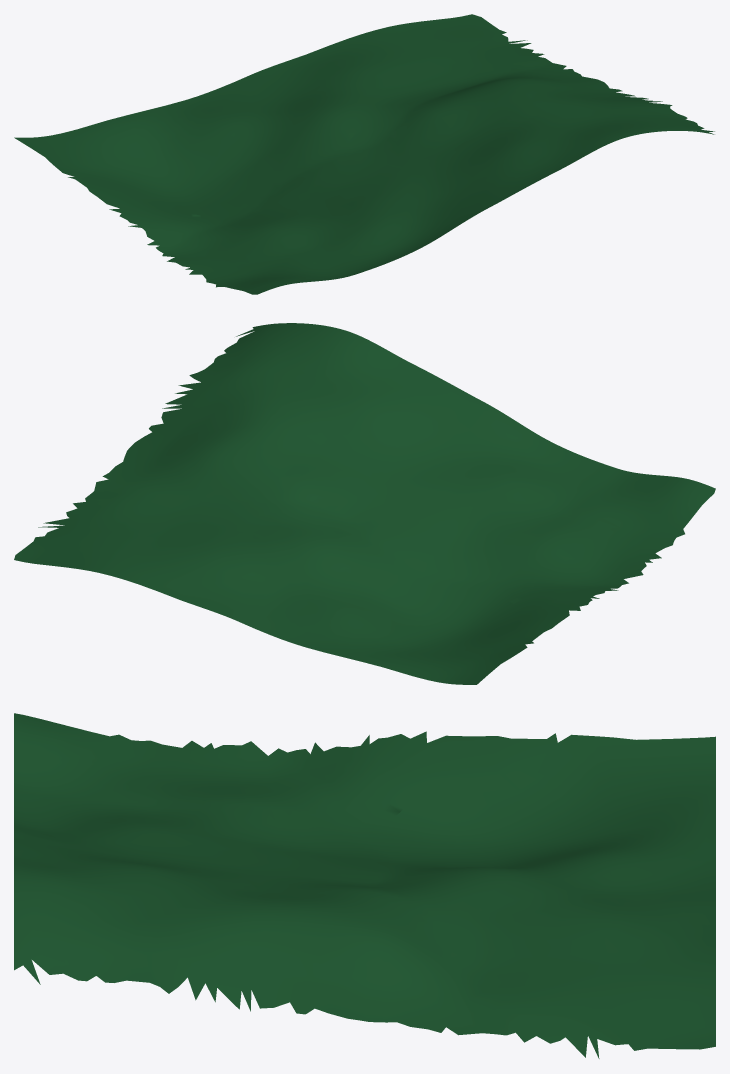
File: payo_land_x0_ym4.glb
The picture shows the model from 3 angles, top to bottom: view 1: azimuth 30°, elevation 25°; view 2: azimuth 150°, elevation 25°; view 3: azimuth 270°, elevation 25°; orthographic projection. The views are drawn at different scales.
Visible parts, largest first — view 1: payo_land_x0_ym4; view 2: payo_land_x0_ym4; view 3: payo_land_x0_ym4.
Boxes of the visible parts, box(x1,y1,x2,y2) form: payo_land_x0_ym4: box(14, 14, 714, 294); payo_land_x0_ym4: box(14, 323, 715, 684); payo_land_x0_ym4: box(14, 713, 715, 1058).
Bounding box in the file's own units: 268 × 58.63 × 231.
